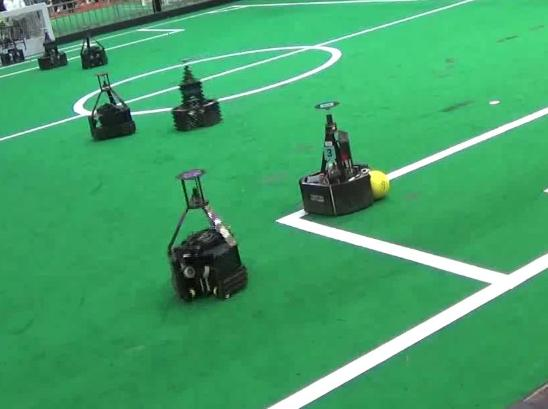robot: (163, 166, 248, 303), (295, 99, 376, 216), (168, 56, 224, 133), (84, 71, 138, 140)
